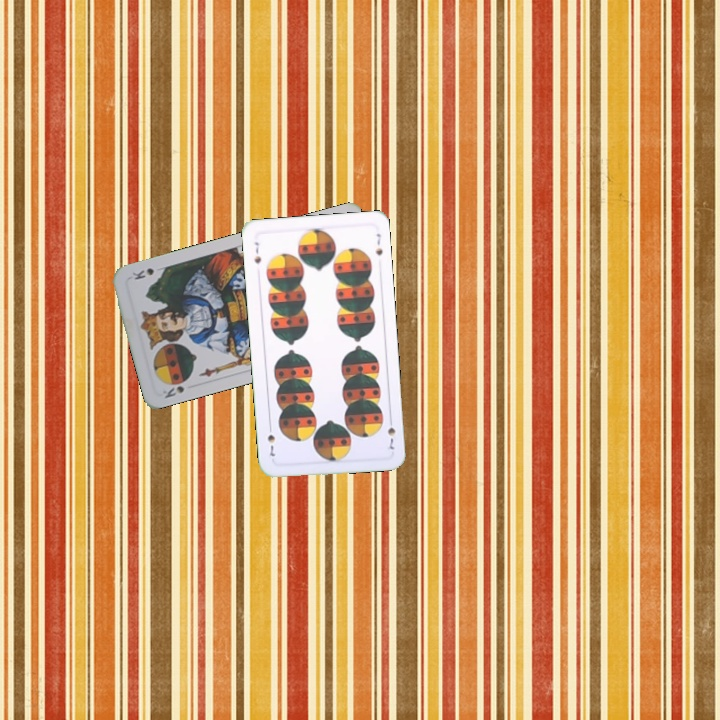S7: (383, 413, 398, 453), (250, 238, 264, 266)
SK: (159, 375, 191, 401)
